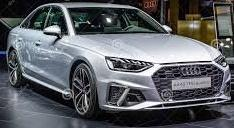Cars: (9, 5, 231, 118)
